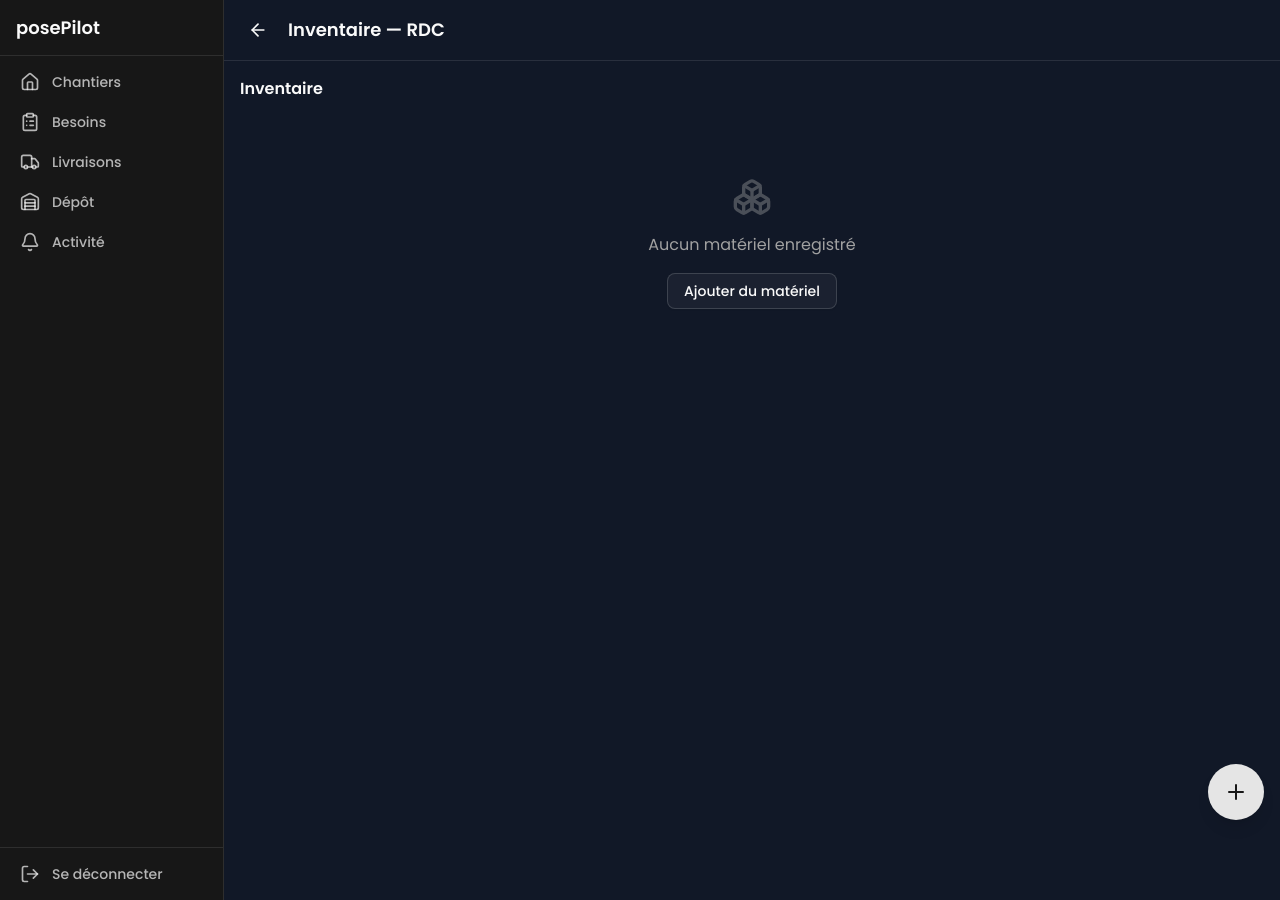
Test: EtageInventairePage › opens creation sheet with lot selector
This screenshot has width=1280, height=900.
Expected: the heading "Inventaire — RDC" is shown, [288,16,445,44]
What coordinates should you click on to do the following:
click the button named "Ajouter"
I would click on:
 (1236, 792)
Its box is [1208,764,1264,820].
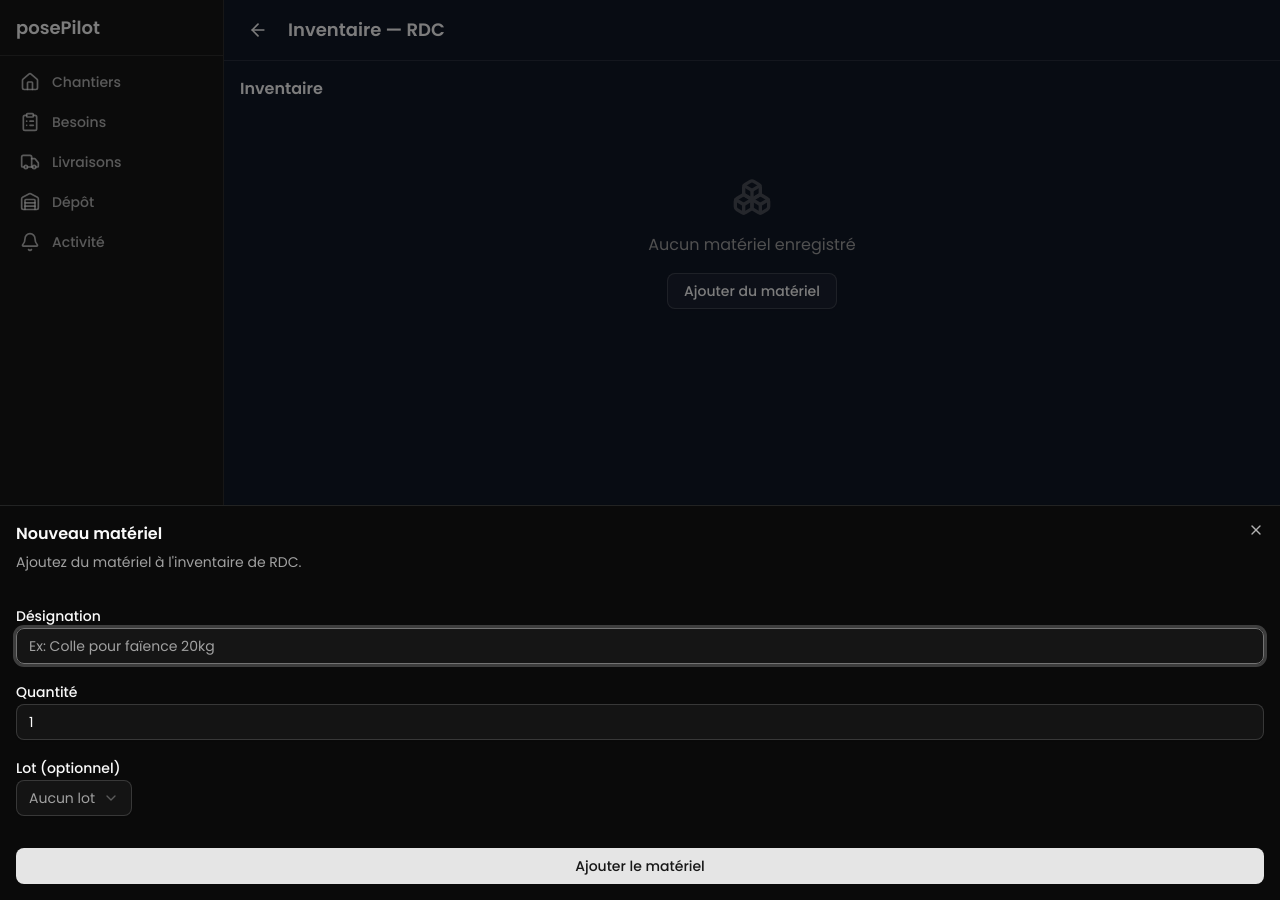
Expected: the heading "Nouveau matériel" is shown, [16,522,162,545]
Expected: the field labelled "Désignation" is shown, [16,628,1264,664]
Expected: the field labelled "Quantité" is shown, [16,704,1264,740]
